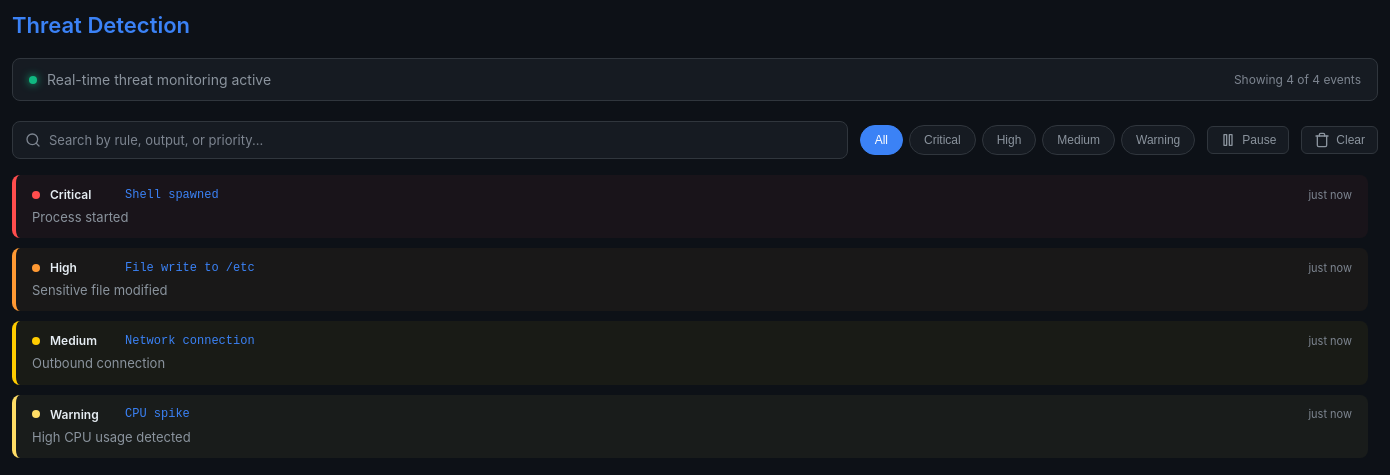
it: ThreatPanel › filters threats by search query
The image size is (1390, 475).
Step 1. Type "shell" into the field with placeholder "Search by rule, output, or priority..." → [442, 140], box [49,122,835,158]
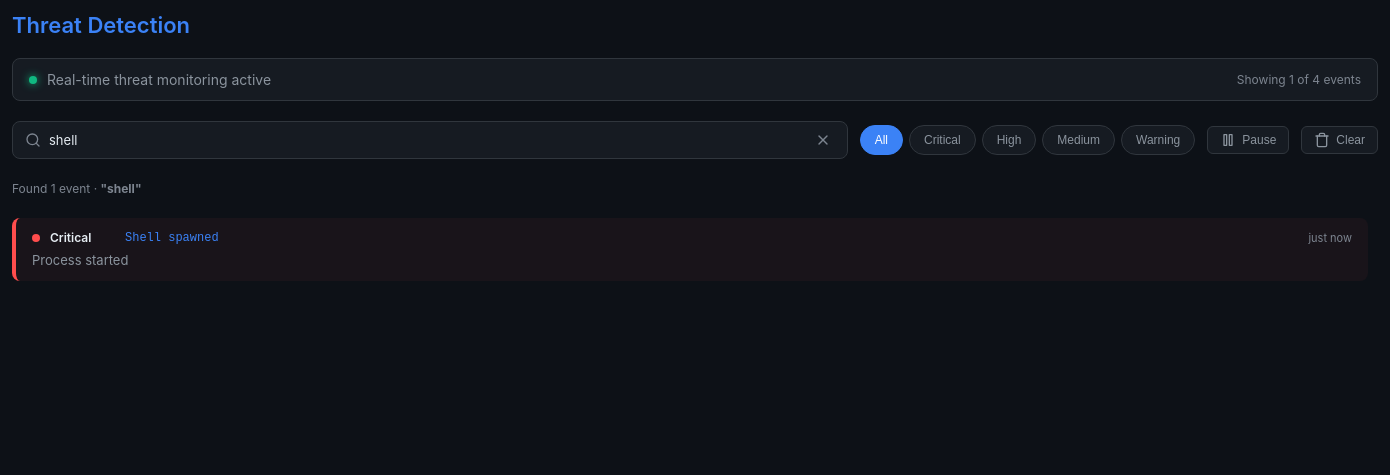
Expected: the text "Shell spawned" is shown, [125,230,219,244]
Result: the text "CPU spike" is gone
